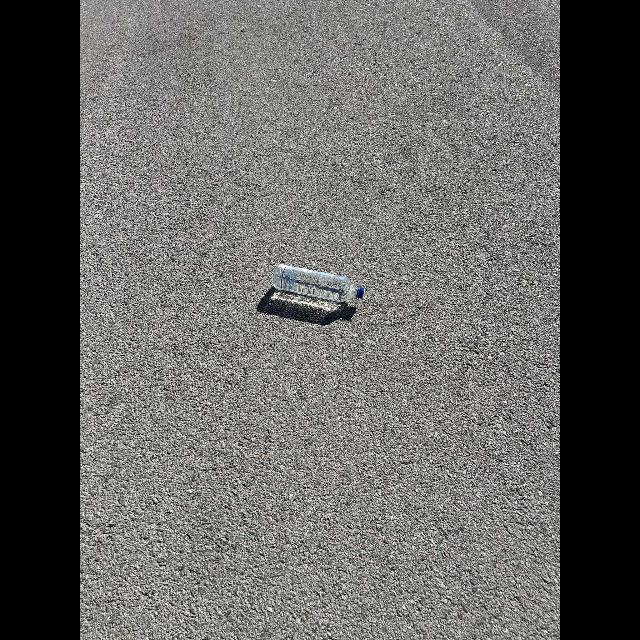trash: (266, 251, 374, 313)
